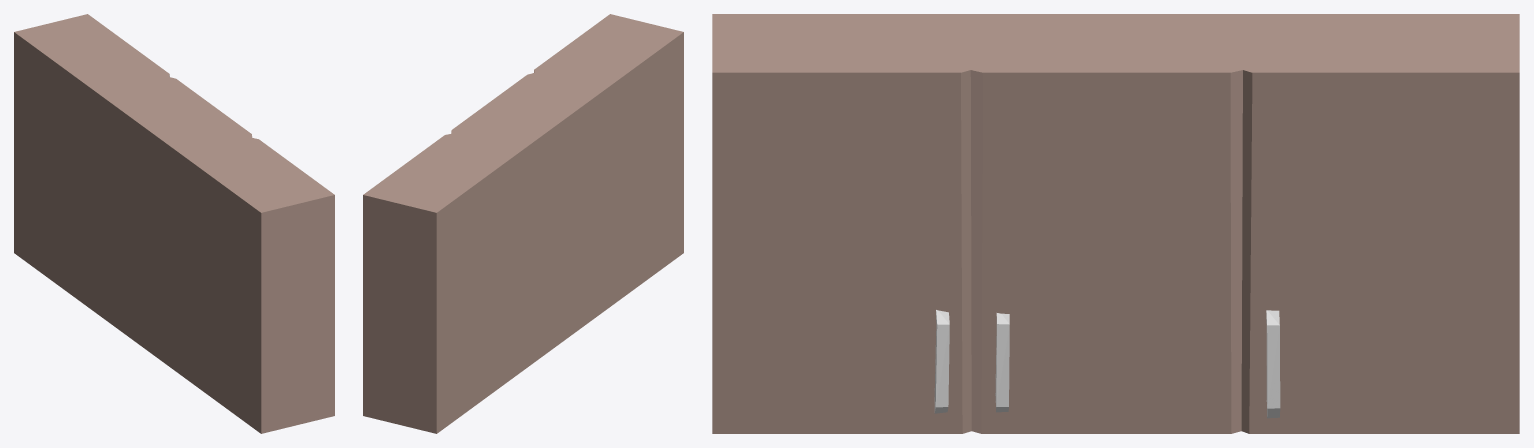
Rendered from 3cab.fbx.
The picture shows the model from 3 angles, left to right: view 1: azimuth 30°, elevation 25°; view 2: azimuth 150°, elevation 25°; view 3: azimuth 270°, elevation 25°; orthographic projection. The views are drawn at different scales.
Visible parts, largest first — view 1: cab1; view 2: cab1; view 3: cab1.
Part boxes in pixels (x1=…): cab1: x1=14, y1=14, x2=334, y2=433; cab1: x1=363, y1=14, x2=683, y2=433; cab1: x1=712, y1=14, x2=1519, y2=433.
Bounding box in the file's own units: 29.69 × 81.41 × 165.
